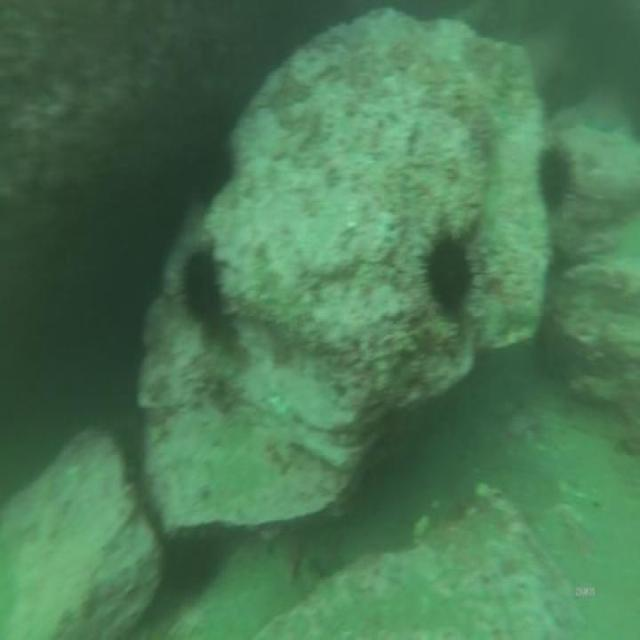echinus: (420, 231, 476, 321), (178, 240, 228, 335), (532, 141, 578, 213)
